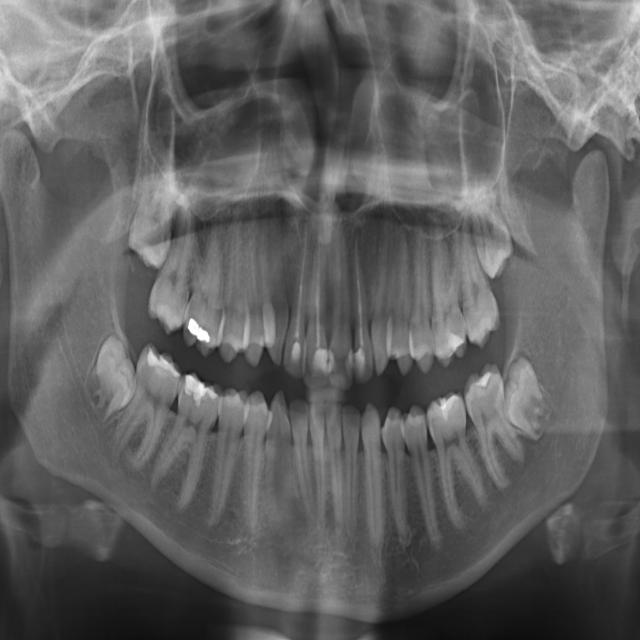AmalgamRestoration: (188, 315, 211, 351)
CompositeResinRestoration: (186, 371, 217, 406), (148, 348, 178, 383), (434, 393, 460, 428), (472, 366, 497, 394), (312, 348, 333, 380), (288, 338, 303, 369), (449, 330, 464, 360), (344, 354, 359, 376)
DentalCaries: (428, 413, 440, 437), (180, 378, 187, 404)
ImpactedTooth: (96, 332, 138, 415), (506, 351, 544, 436)
RootCanalTreatment: (350, 236, 369, 345), (312, 233, 329, 345), (291, 238, 309, 338)
